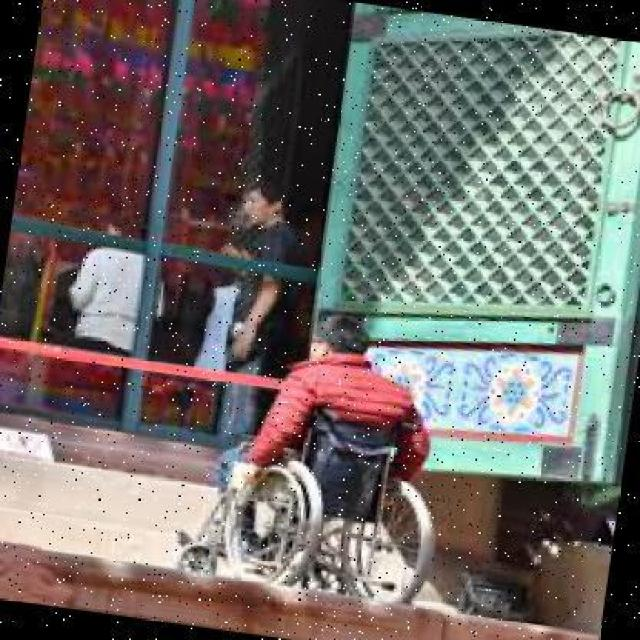Person: (176, 302, 456, 607), (200, 183, 306, 454)
